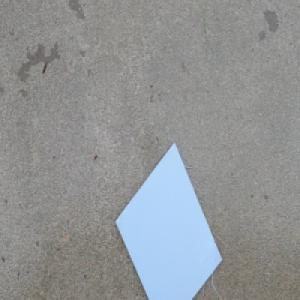PaintChip: (114, 141, 223, 300)
